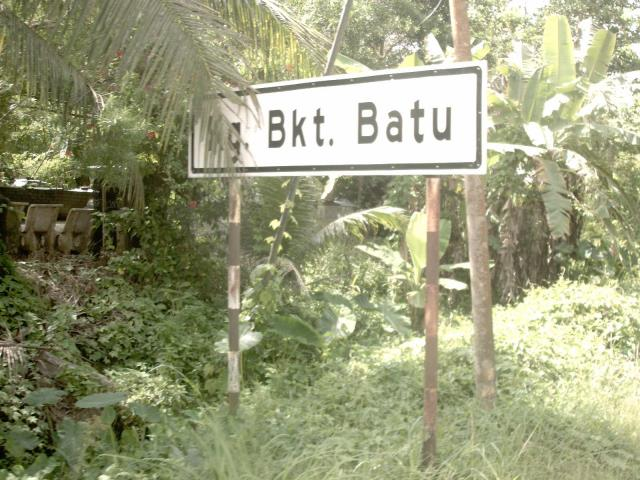ads_sign: (188, 47, 499, 203)
